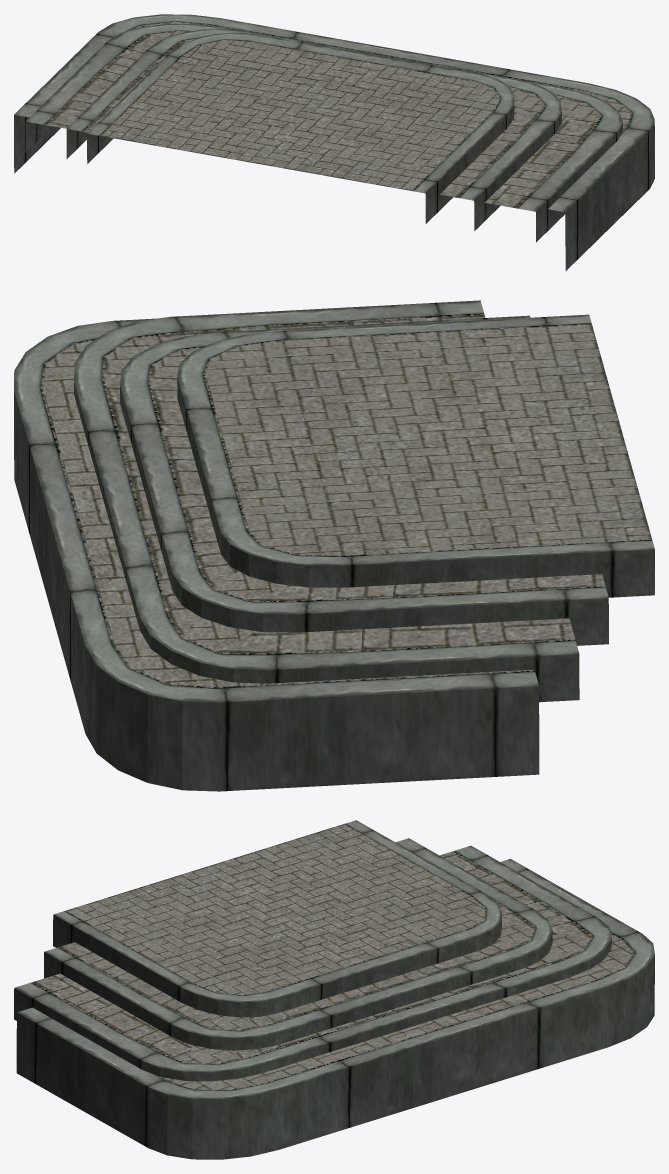
The model's file is Steps_Lake_COMBO.fbx.
The picture shows the model from 3 angles, top to bottom: view 1: azimuth 30°, elevation 25°; view 2: azimuth 150°, elevation 25°; view 3: azimuth 270°, elevation 25°; orthographic projection. The views are drawn at different scales.
Parts seen in each view (by area): view 1: VP_park_pavement_block; view 2: VP_park_pavement_block; view 3: VP_park_pavement_block.
Boxes of the visible parts, x1,y1,x2,y2 form: VP_park_pavement_block: (14,14,654,270); VP_park_pavement_block: (14,300,654,791); VP_park_pavement_block: (14,820,654,1159).
Bounding box in the file's own units: 7.54 × 1.44 × 8.31.
